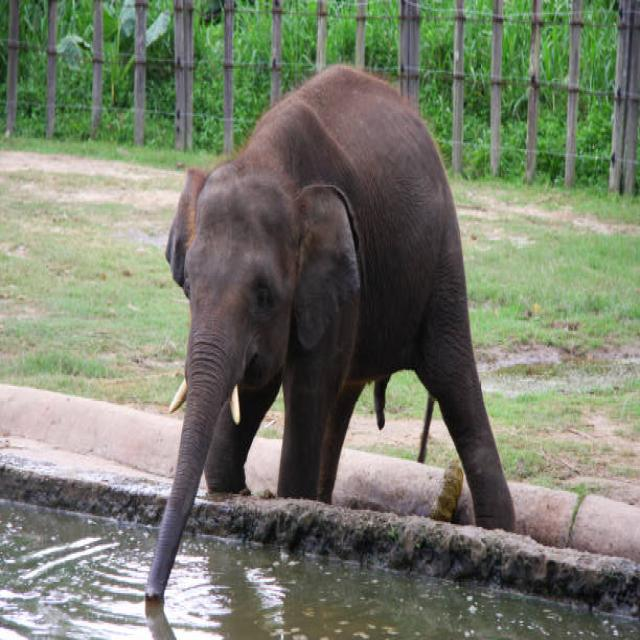Elephant: (136, 53, 520, 598)
